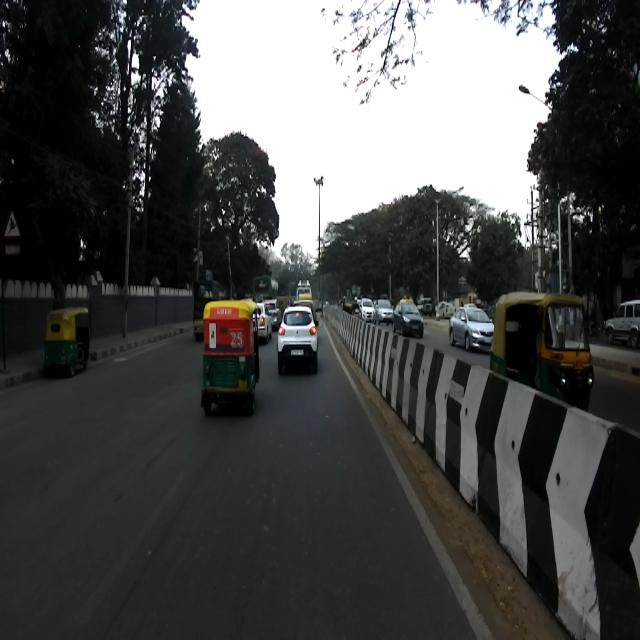auto ahead at: (200, 296, 260, 414), (44, 303, 93, 384)
car ahead at: (278, 299, 318, 374)
sign board ahead at: (1, 209, 24, 256)
